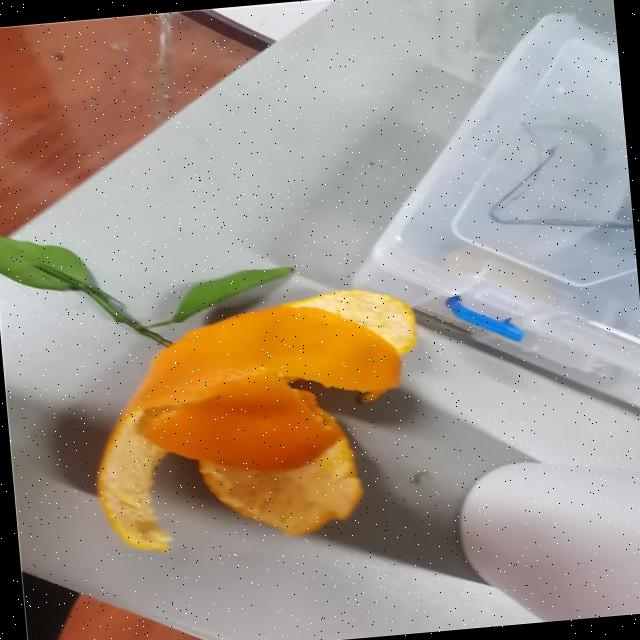orange-peel: (80, 281, 433, 557)
